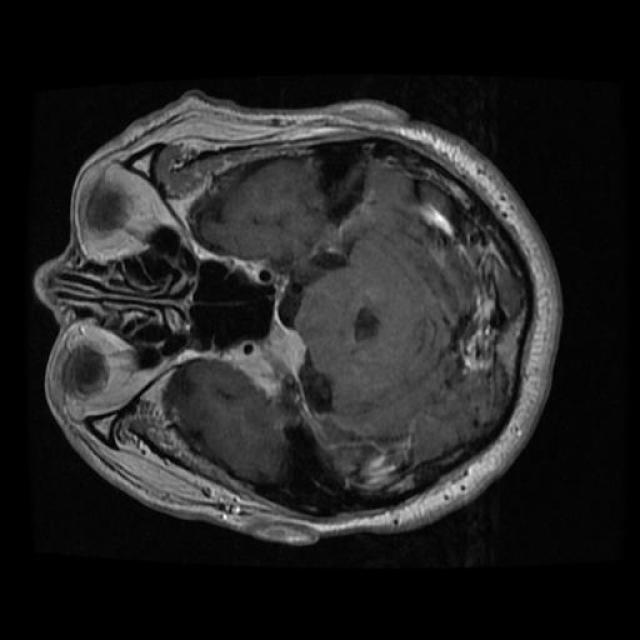Meningioma: (222, 305, 306, 397)
